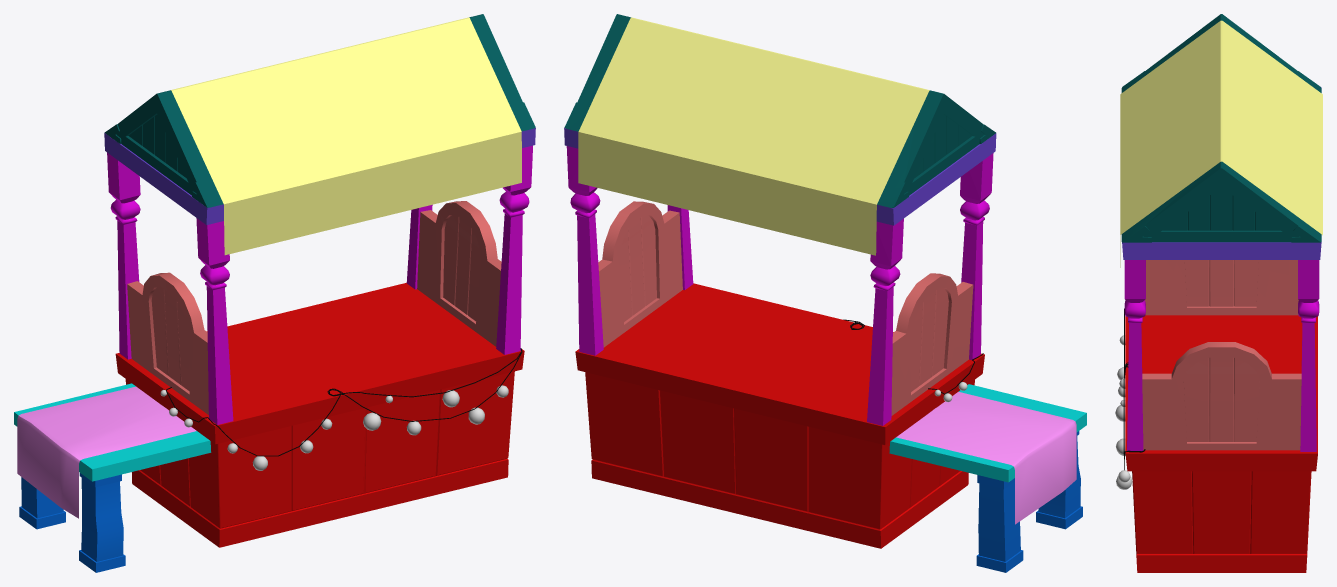
The model's file is Stall_001.fbx.
3 renders of one model, left to right at view 1: azimuth 30°, elevation 25°; view 2: azimuth 150°, elevation 25°; view 3: azimuth 270°, elevation 25°, orthographic. The views are drawn at different scales.
Parts seen in each view (by area): view 1: Object011, Object018, Object016; view 2: Object011, Object018; view 3: Object011, Object018, Object016.
Part boxes in pixels (box(x1,y1,x2,y2)): Object011: box(14, 14, 535, 572); Object018: box(17, 17, 521, 518); Object016: box(160, 385, 508, 470); Object011: box(564, 14, 1086, 572); Object018: box(578, 17, 1076, 524); Object011: box(1121, 14, 1321, 572); Object018: box(1120, 20, 1322, 267); Object016: box(1115, 335, 1132, 489).
Size of the model in its own units: 194 by 181 by 82.36.
